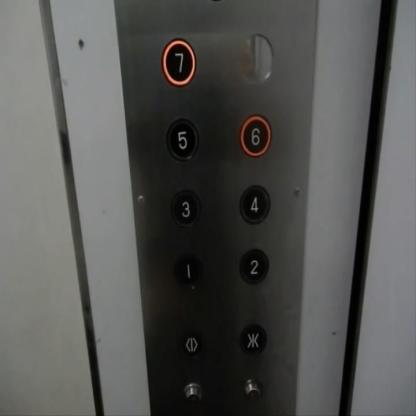1: (171, 247, 203, 290)
2: (237, 243, 269, 286)
3: (167, 185, 202, 229)
4: (236, 182, 270, 226)
5: (162, 114, 200, 162)
6: (235, 111, 273, 158)
7: (159, 36, 197, 88)
close: (237, 320, 267, 357)
empty: (236, 30, 274, 83)
indicator: (238, 375, 263, 406), (180, 378, 204, 408)
open: (176, 324, 206, 361)
